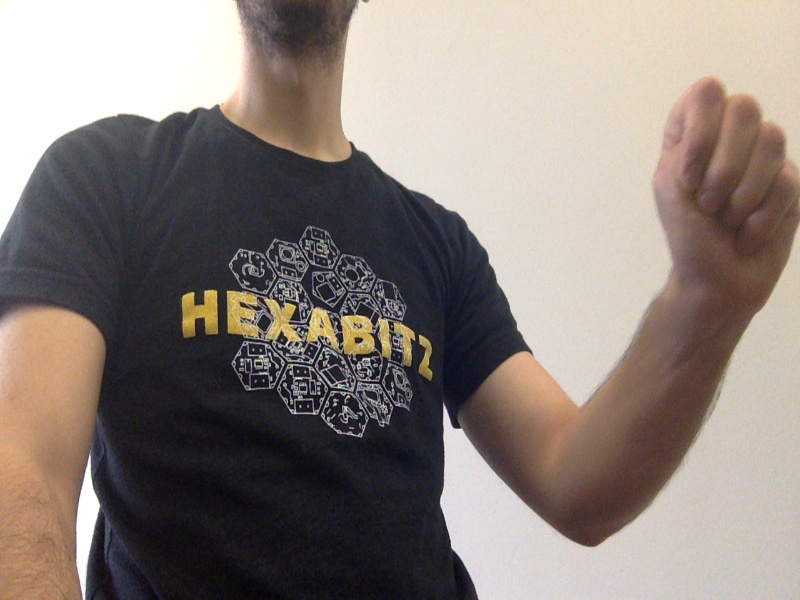0-hand: (651, 80, 800, 300)
